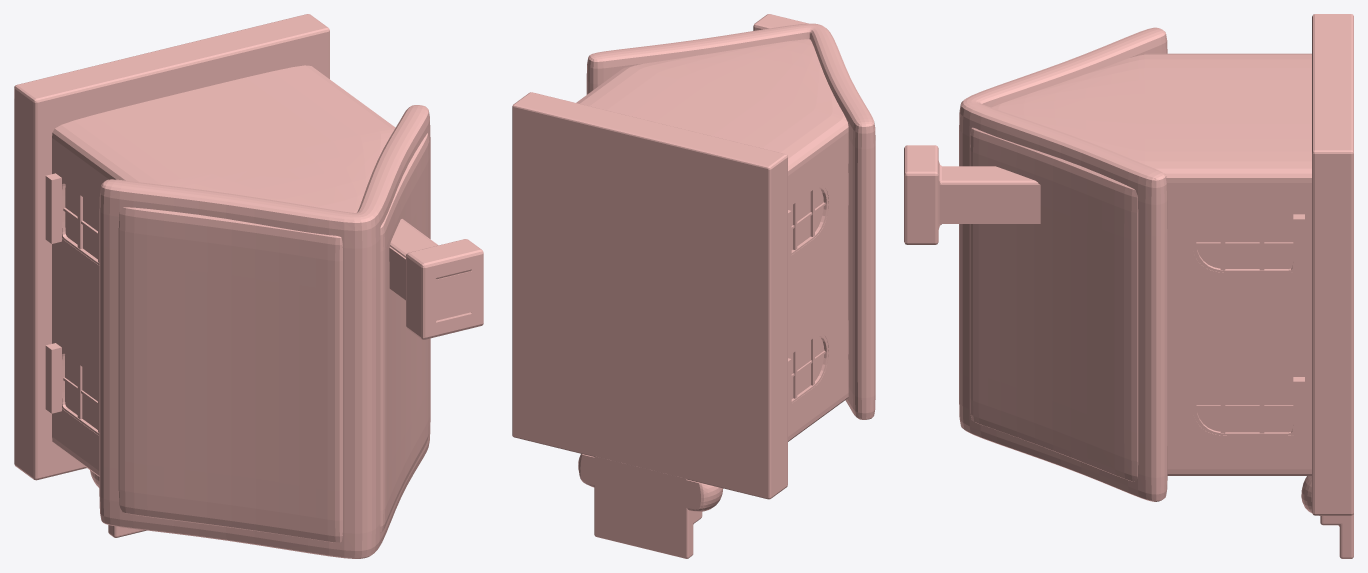
Rendered from casa-rosa.glb.
3 views of the same model, side by side, from view 1: azimuth 30°, elevation 25°; view 2: azimuth 150°, elevation 25°; view 3: azimuth 270°, elevation 25° (orthographic). The views are drawn at different scales.
Visible parts, largest first — view 1: casa-rosa.glb; view 2: casa-rosa.glb; view 3: casa-rosa.glb.
Boxes of the visible parts, x1,y1,x2,y2 form: casa-rosa.glb: [14, 14, 483, 558]; casa-rosa.glb: [512, 14, 875, 558]; casa-rosa.glb: [904, 14, 1353, 558].
Size of the model in its own units: 21.81 by 30 by 27.02.
